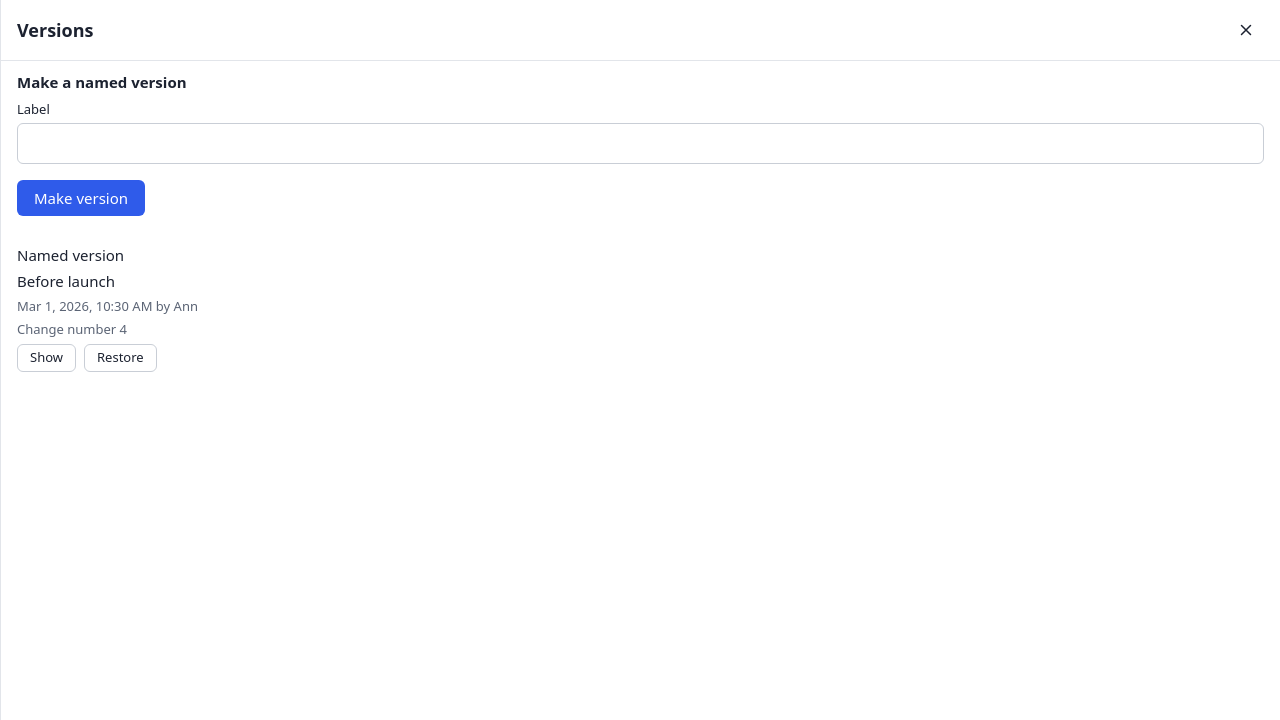
Test case: VersionPanel › shows the 412 message when the restore conflicts
Click the button with aria-label "Restore the version" at (120, 358), box [84,344,157,372]
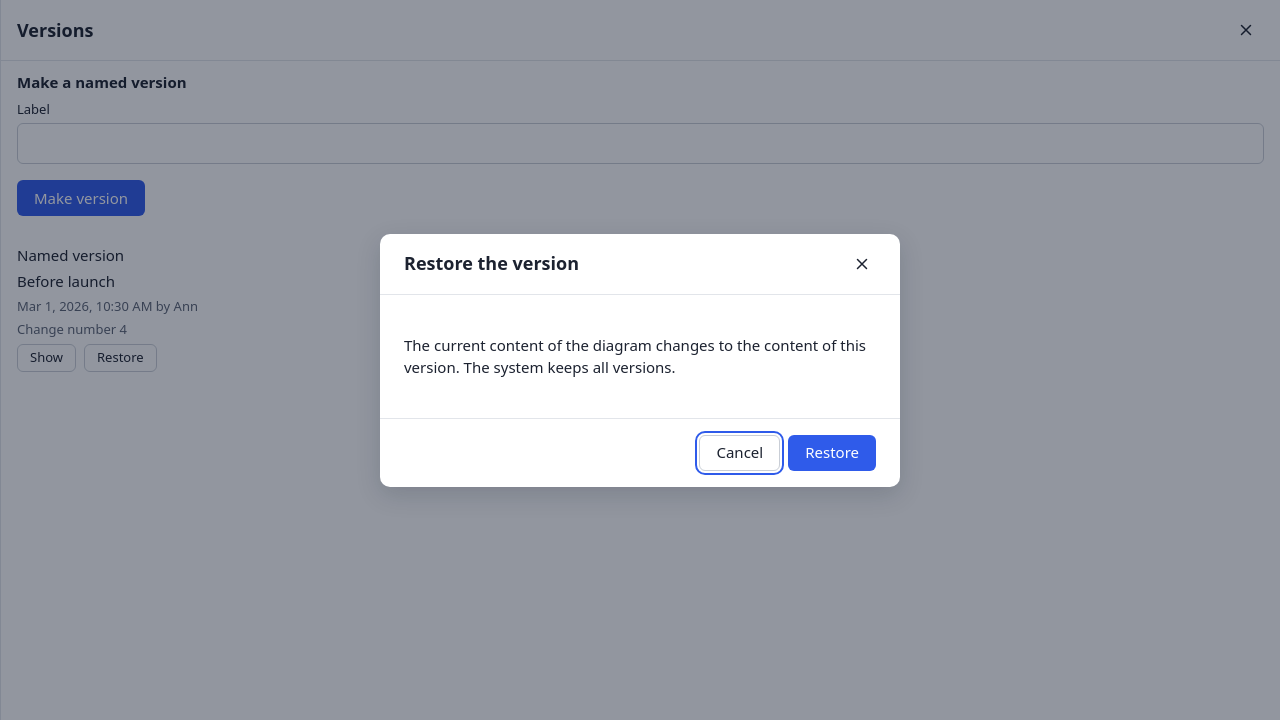
Click the button "Restore" at (832, 452), box [788,434,876,470]
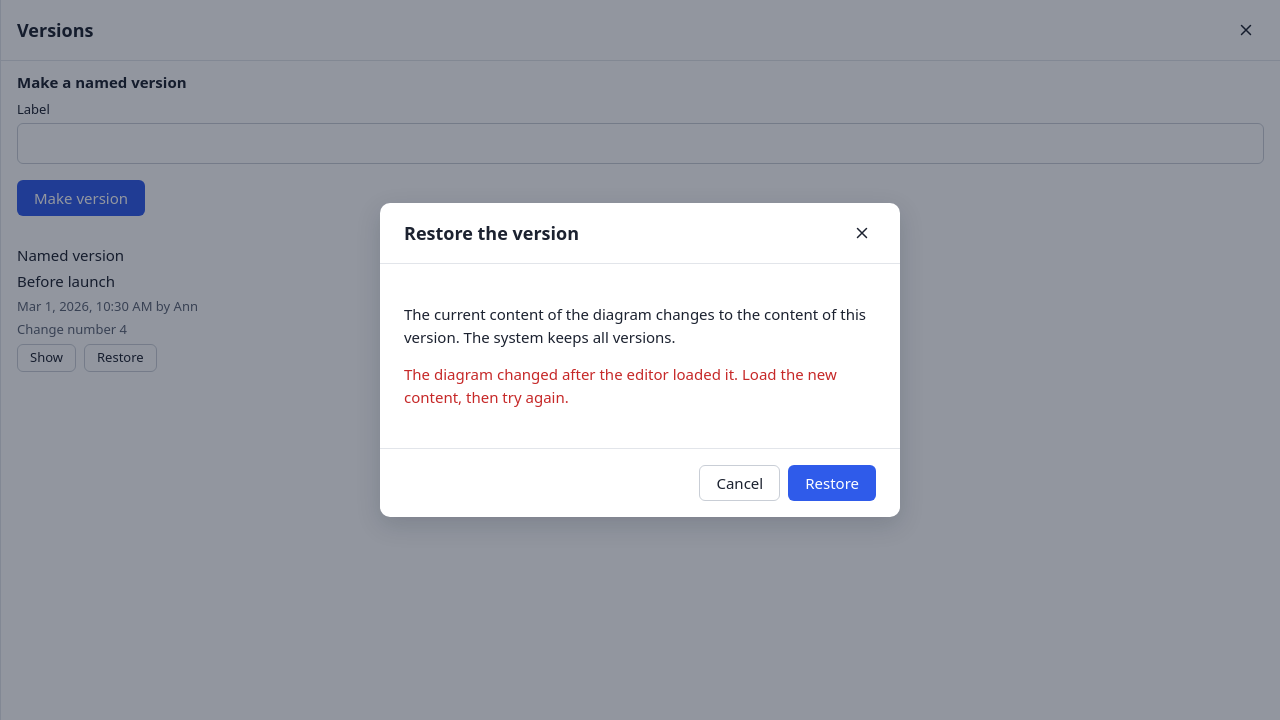
Expected: the dialog is shown, [380,203,900,517]
Expected: the text "The diagram changed after the editor loaded it. Load the new content, then try again." is shown, [404,364,837,406]
